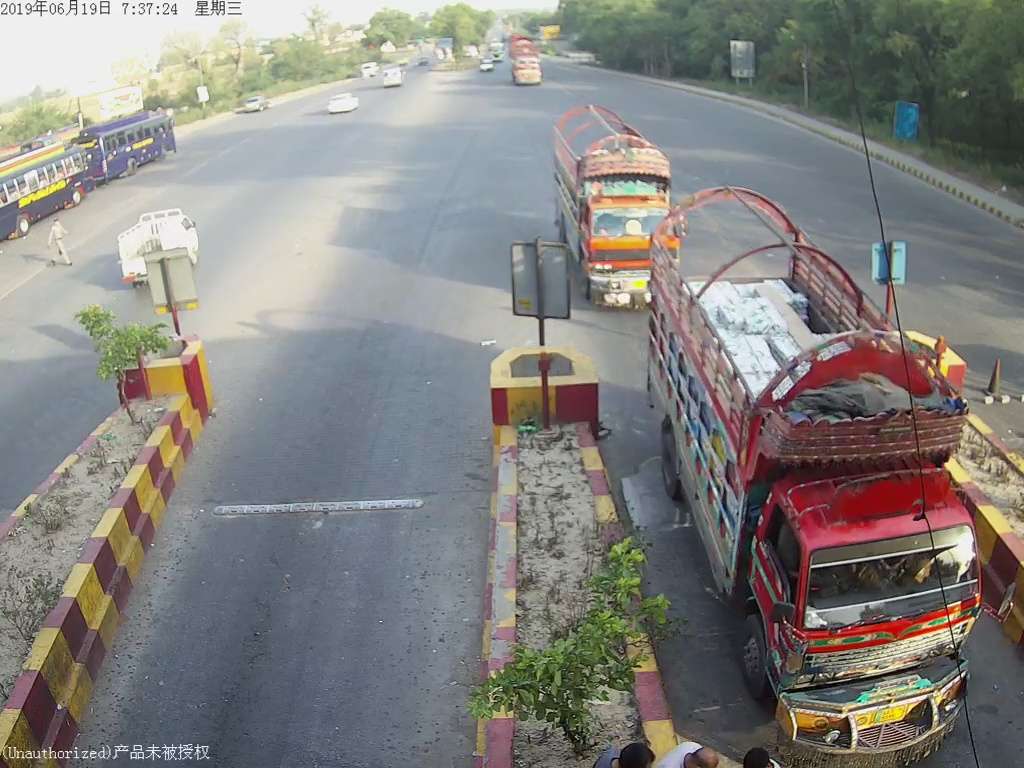Cat-4: (655, 201, 991, 747), (551, 99, 678, 310), (508, 37, 544, 93)
